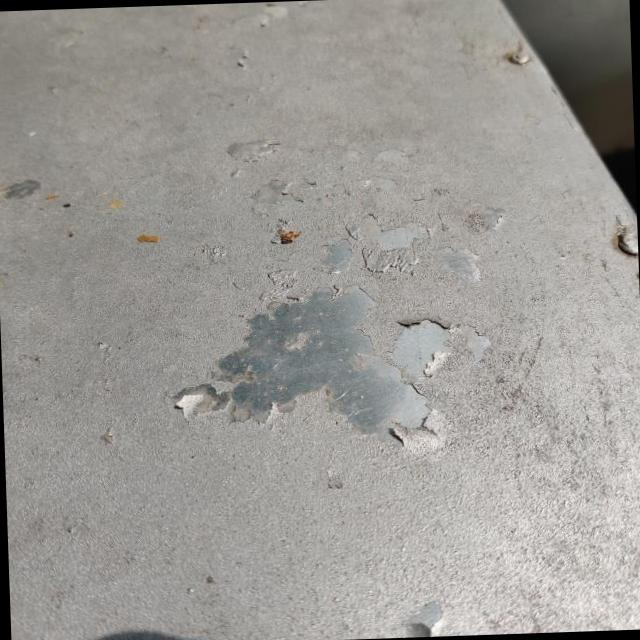Paint-off: (173, 282, 491, 453), (347, 214, 427, 273)
